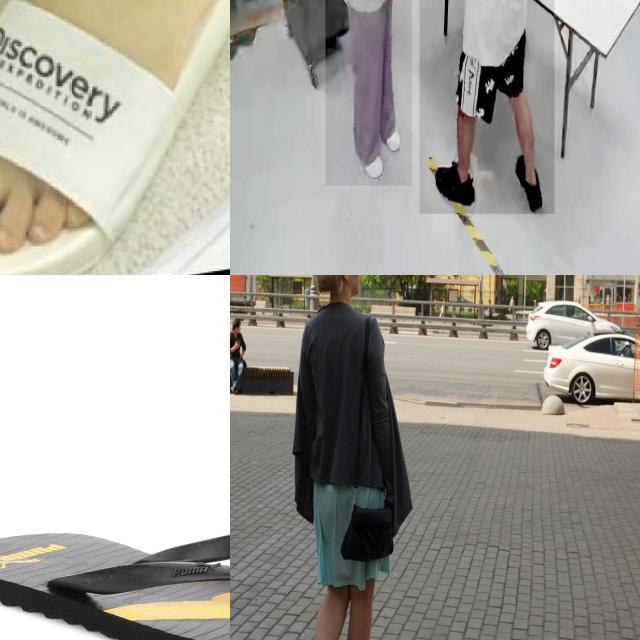Sandals: (0, 0, 230, 275), (0, 527, 230, 640)
person: (419, 0, 554, 215), (325, 0, 412, 186)
shoes: (510, 148, 546, 216), (431, 159, 478, 205), (355, 135, 385, 180), (378, 107, 402, 155)
